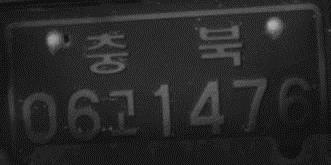0: (20, 89, 60, 146)
1: (149, 81, 176, 141)
4: (187, 78, 230, 139)
6: (275, 72, 317, 136), (64, 86, 103, 145)
7: (229, 74, 269, 138)
고: (105, 86, 139, 140)
충북_D: (84, 22, 243, 79)
